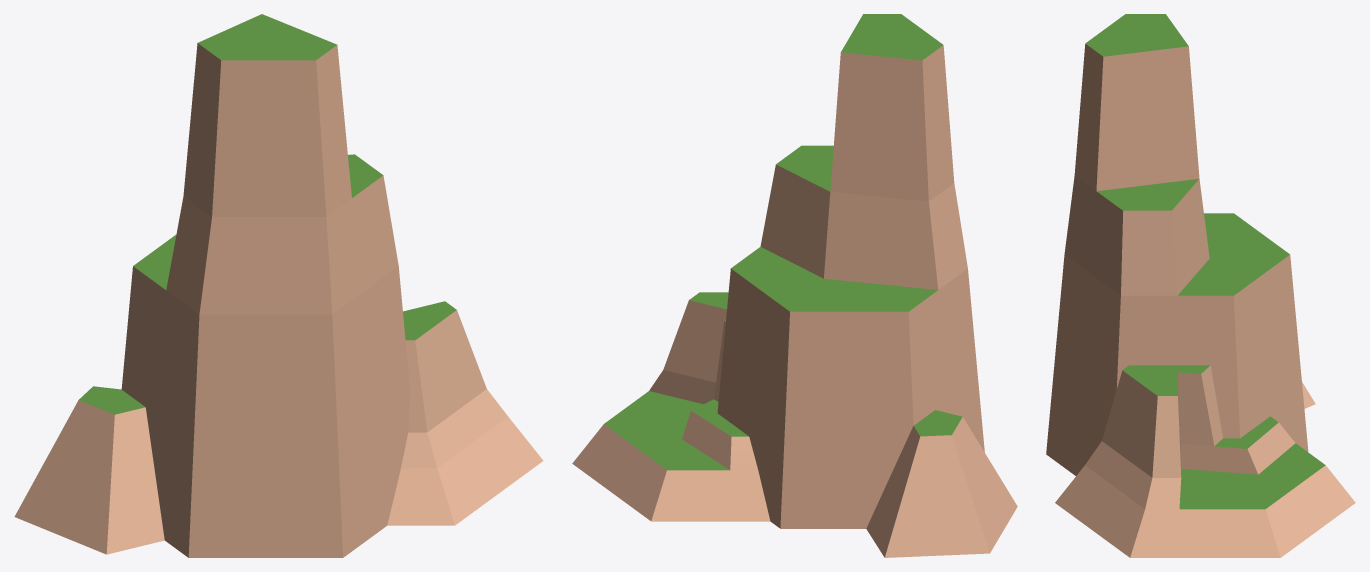
File: rock-5.glb
3 renders of one model, left to right at view 1: azimuth 30°, elevation 25°; view 2: azimuth 150°, elevation 25°; view 3: azimuth 270°, elevation 25°, orthographic. The views are drawn at different scales.
Visible parts, largest first — view 1: rock_tallA; view 2: rock_tallA; view 3: rock_tallA.
Boxes of the visible parts, x1=… form: rock_tallA: x1=14, y1=14, x2=543, y2=557; rock_tallA: x1=572, y1=14, x2=1017, y2=557; rock_tallA: x1=1046, y1=14, x2=1355, y2=557.
Bounding box in the file's own units: 1.09 × 1.1 × 0.7546.
